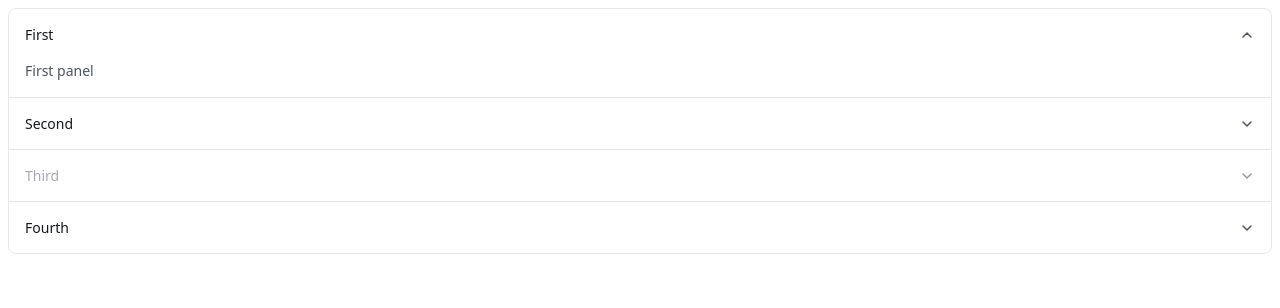
Test: Accordion › holds several panels open in multiple mode
The image size is (1280, 308).
Click the button "Second".
click(49, 124)  # box [9, 98, 1271, 149]
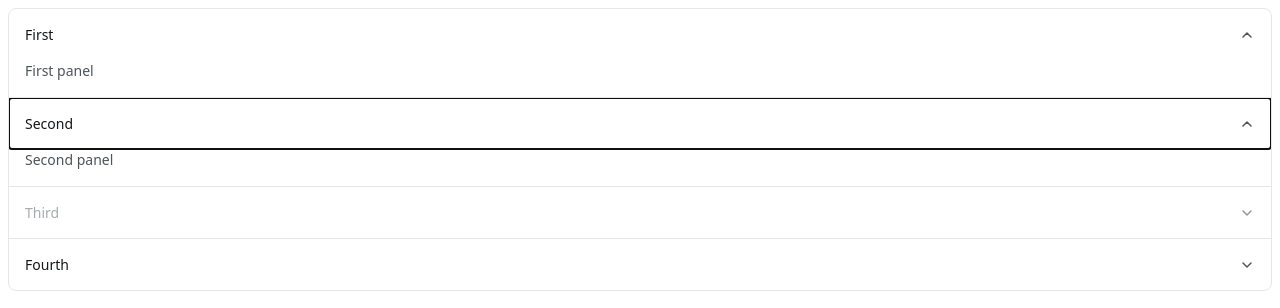
expect the text "First panel" is shown: met, box [25, 61, 94, 80]
expect the text "Second panel" is shown: met, box [25, 150, 113, 169]
